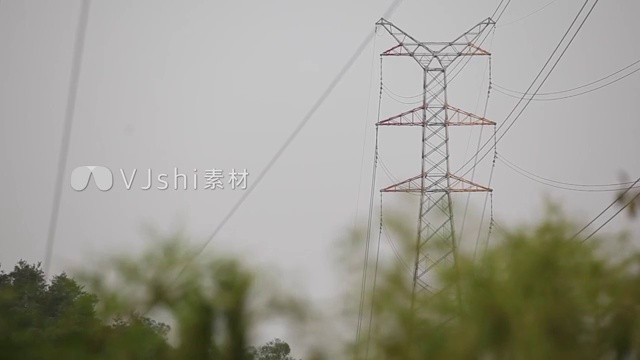tower_body: (364, 7, 503, 302)
tower_head: (370, 12, 498, 71)
